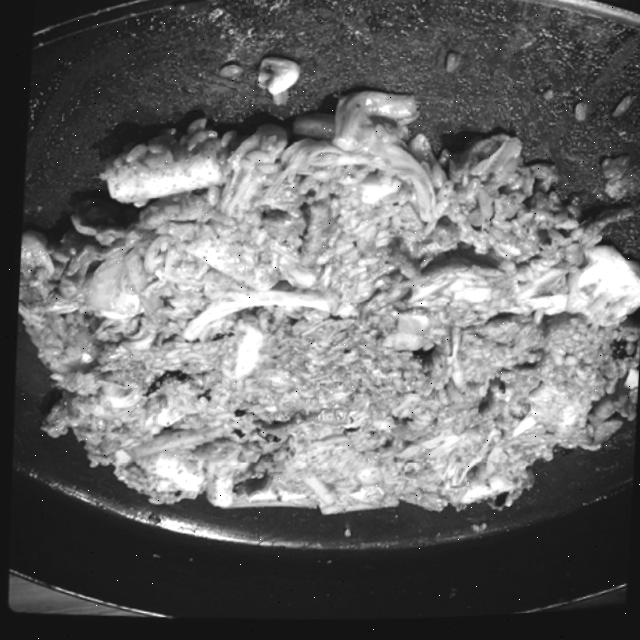鸡肉料理 含炸鸡: (20, 0, 640, 619)
